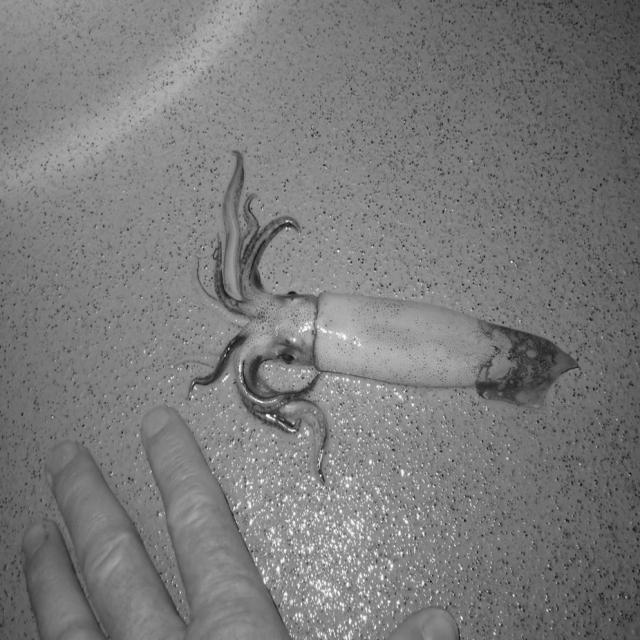SQUID: (167, 131, 592, 483)
